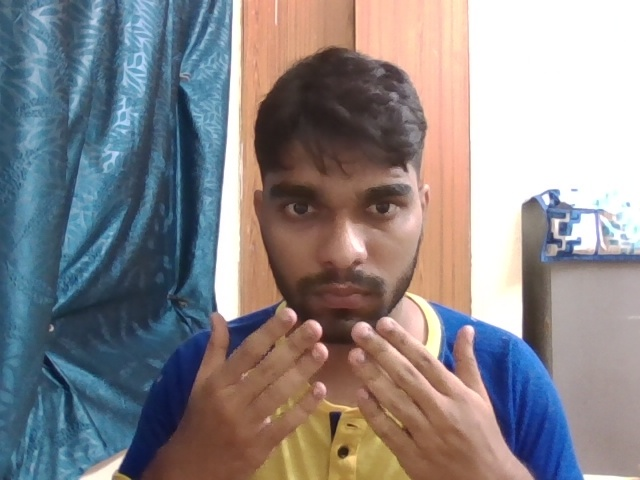Thank You: (183, 275, 515, 480)
